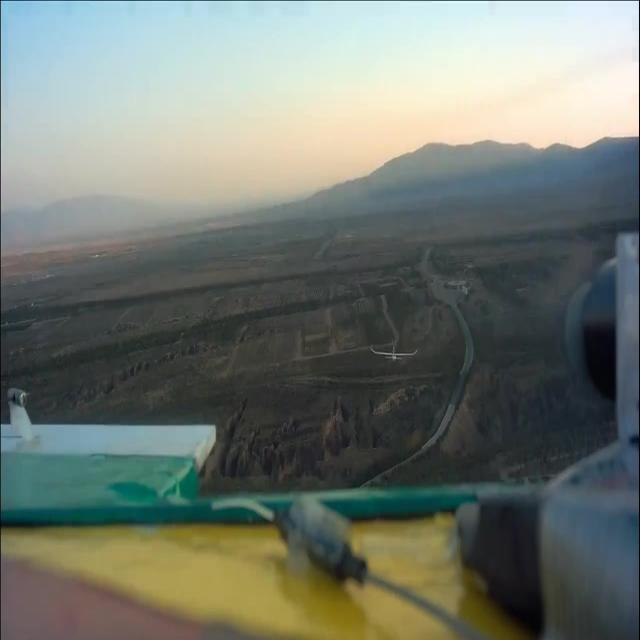iha: (363, 338, 412, 362)
